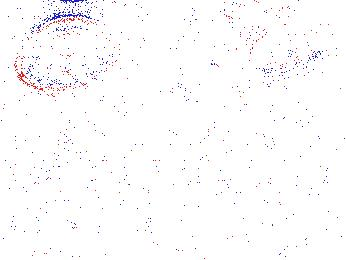moon jellyfish: (119, 6, 252, 91), (16, 15, 121, 93), (242, 9, 329, 73)
